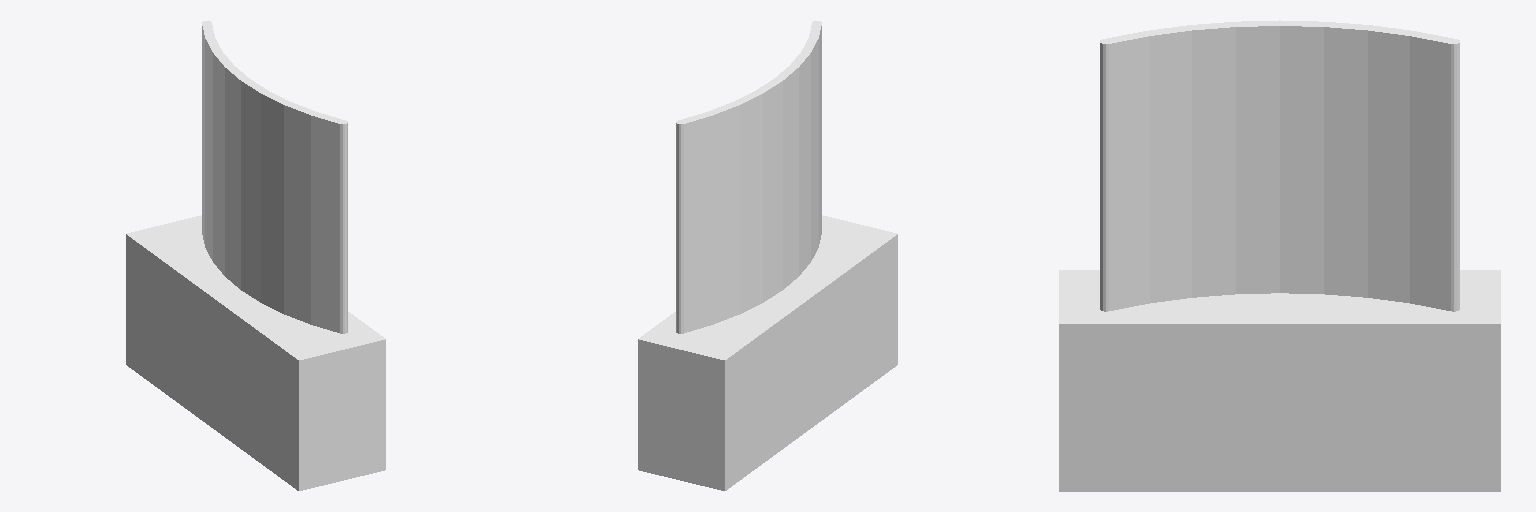
URDF robot description (work_piece_dada):
<?xml version="1.0" encoding="utf-8"?>
<!-- This URDF was automatically created by SolidWorks to URDF Exporter! Originally created by Stephen Brawner (brawner@gmail.com) 
     Commit Version: 1.6.0-4-g7f85cfe  Build Version: 1.6.7995.38578
     For more information, please see http://wiki.ros.org/sw_urdf_exporter -->
<robot
  name="work_piece_dada">
  <link
    name="base_link">
    <inertial>
      <origin
        xyz="-7.25386340446471E-06 1.73472347597681E-18 0.0327154717972264"
        rpy="0 0 0" />
      <mass
        value="0.238284235346798" />
      <inertia
        ixx="0.000439014910114538"
        ixy="6.8263842377772E-20"
        ixz="9.90152354709561E-08"
        iyy="0.000186009962206693"
        iyz="-2.43156833283264E-20"
        izz="0.000296722641220365" />
    </inertial>
    <visual>
      <origin
        xyz="0 0 0"
        rpy="0 0 0" />
      <geometry>
        <mesh
          filename="package://work_piece_dada/meshes/base_link.STL" />
      </geometry>
      <material
        name="m">
        <color
          rgba="1 1 1 1" />
      </material>
    </visual>
    <collision>
      <origin
        xyz="0 0 0"
        rpy="0 0 0" />
      <geometry>
        <mesh
          filename="package://work_piece_dada/meshes/base_link.obj" />
      </geometry>
    </collision>
  </link>

  <link
    name="Link_1">
    
    <!-- <visual>
      <origin
        xyz="0 0 0"
        rpy="0 0 0" />
      <geometry>
        <mesh
          filename="package://work_piece_dada/meshes/base_link.STL" />
      </geometry>
      <material
        name="">
        <color
          rgba="1 1 1 1" />
      </material>
    </visual> -->

  </link>
  <joint
    name="joint_1"
    type="fixed">
    <origin
      xyz="0 0 0"
      rpy="0 0 0" />
    <parent
      link="base_link" />
    <child
      link="Link_1" />
    <axis
      xyz="0 0 0" />
  </joint>




</robot>

--- What the picture shows (computed from the rendered views, not written in the file) ---
3 views of the same robot in one strip: view 1: azimuth 30°, elevation 25°; view 2: azimuth 150°, elevation 25°; view 3: azimuth 270°, elevation 25° (orthographic).
Robot: work_piece_dada — 2 links, 1 joints (1 fixed); root link base_link; default pose: every joint at zero.
Links seen in each view (by area): view 1: base_link; view 2: base_link; view 3: base_link.
Boxes of the visible links, x1,y1,x2,y2 form: base_link: (126,21,385,490); base_link: (638,21,897,490); base_link: (1059,20,1500,491).
Size in the robot's own frame: 0.035 by 0.12 by 0.13 metres.
1 mesh visuals loaded from 1 distinct referenced files (1 binary STL).
